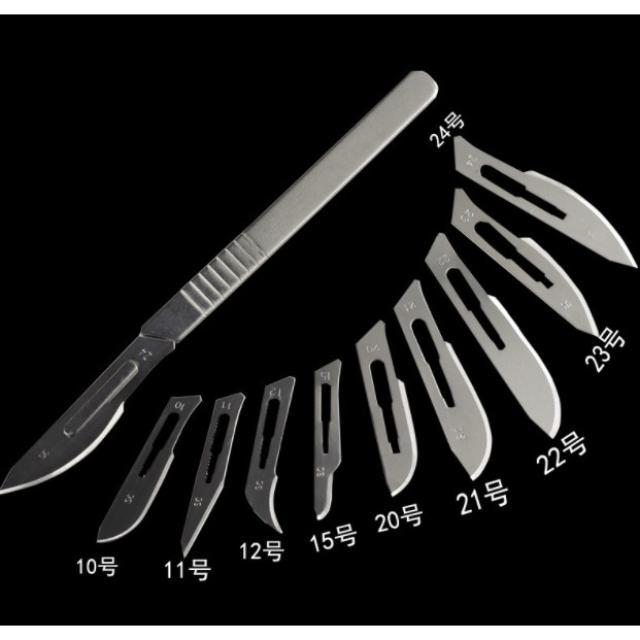Surgical blade: (417, 228, 566, 444), (450, 130, 640, 276), (2, 332, 165, 496), (446, 186, 609, 345), (390, 278, 494, 482), (80, 380, 214, 538), (156, 389, 252, 562), (347, 320, 422, 500), (238, 370, 314, 537), (294, 354, 351, 528)
